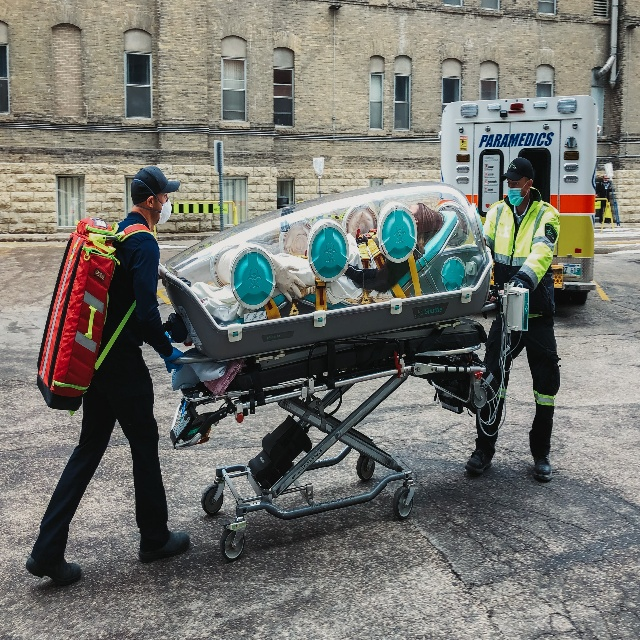Guantes: (271, 257, 306, 302), (164, 345, 183, 374)
Mascara: (157, 193, 171, 224), (507, 183, 524, 205)
